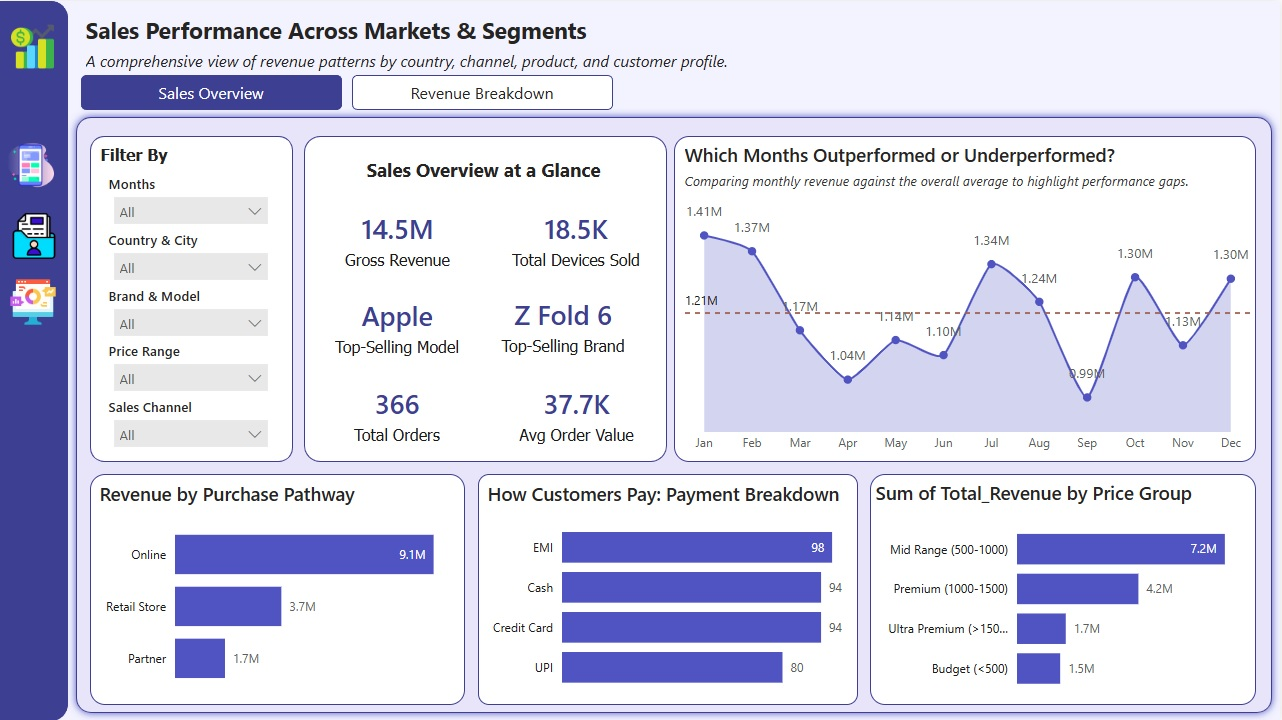

This screenshot's page, from the dashboard's own definition file:
{"tool":"powerbi","page":{"name":"Revenue","canvas":[1280,720],"ordinal":2},"visuals":[{"type":"shape","box":[67.5,107.5,1212.5,612.5],"z":0},{"type":"shape","box":[0,0,67.9,719.8],"z":1000},{"type":"textbox","title":" Sales Performance Across Markets & Segments","box":[81.2,13.8,691.2,63.8],"z":2000},{"type":"map","title":"Global Revenue Distribution by Country","fields":{"Size":["Sum(Sales.Total_Revenue)"],"Category":["Location.Country","Location.City"]},"box":[305.6,135.6,481.1,326],"z":4000},{"type":"shape","box":[90,135,202.5,326.2],"z":7000,"group":"g1"},{"type":"tableEx","title":"Best Performing Cities by Revenue & Volume","fields":{"Values":["Location.Country","Sales.City","Sales.Average_price","Sum(Sales.Units_Sold)","Sum(Sales.Total_Revenue)"]},"box":[800,135.6,458.9,174.4],"z":9000},{"type":"tableEx","title":"Model-Level Performance Overview","fields":{"Values":["Sales.Brand","Sales.Mobile_Model","Avg(Sales.Price_per_item)","Sum(Sales.Units_Sold)","Sum(Sales.Total_Revenue)"]},"box":[413.8,473.3,460,223.3],"z":10000},{"type":"clusteredBarChart","title":"Revenue Distribution by Gender","fields":{"Category":["Sales.Customer_Gender"],"Y":["Sum(Sales.Total_Revenue)"]},"box":[800,318.9,458.9,143.3],"z":11000},{"type":"clusteredBarChart","title":"Brand-Level Revenue Comparison","fields":{"Category":["Sales.Brand"],"Y":["Sum(Sales.Total_Revenue)"]},"box":[90,473.8,316.2,221.2],"z":12000},{"type":"clusteredBarChart","title":"Age Demographics Driving Sales","fields":{"Category":["Sales.Customer_Age_Group"],"Y":["Sum(Sales.Total_Revenue)"]},"box":[881.2,473.3,377.5,221.2],"z":13000},{"type":"bookmarkNavigator","box":[81.1,74,532.2,35],"z":14000},{"type":"image","box":[0,136,61,57],"z":15000},{"type":"slicer","title":"Months","fields":{"Values":["Sales.Monthname"]},"box":[104.4,174.4,173.3,55.6],"z":16000,"group":"g1"},{"type":"image","box":[4,206.7,61,56],"z":16000},{"type":"image","box":[2.2,14,61,63.3],"z":17000},{"type":"slicer","title":"Country & City","fields":{"Values":["Location.Country","Sales.City"]},"box":[104.4,230,173.3,55.6],"z":17000,"group":"g1"},{"type":"group","id":"g1","title":"Group 2","box":[90,135,202.5,326.2],"z":18000},{"type":"slicer","title":"Brand & Model","fields":{"Values":["Sales.Brand","Sales.Mobile_Model"]},"box":[104.4,285.6,173.3,55.6],"z":18000,"group":"g1"},{"type":"image","box":[2.5,271,61.2,60],"z":18001},{"type":"slicer","title":"Price Range","fields":{"Values":["Sales.Price Group"]},"box":[104.4,341.1,173.3,55.6],"z":19000,"group":"g1"},{"type":"slicer","title":"Sales Channel","fields":{"Values":["Sales.Sales_Channel"]},"box":[104.4,396.7,173.3,55.6],"z":20000,"group":"g1"},{"type":"textbox","box":[100,143.3,115.6,25.6],"z":21000,"group":"g1"}]}

Visuals, with their boxes on the page's 1280x720 design canvas (x1, y1, x2, y2). These are canvas units, not pixel positions in the 1282x720 screenshot, which may show the page scaled, cropped or inside an application window:
shape: (x1=68, y1=108, x2=1280, y2=720)
shape: (x1=0, y1=0, x2=68, y2=720)
" Sales Performance Across Markets & Segments" textbox: (x1=81, y1=14, x2=772, y2=78)
"Global Revenue Distribution by Country" map: (x1=306, y1=136, x2=787, y2=462)
shape: (x1=90, y1=135, x2=292, y2=461)
"Best Performing Cities by Revenue & Volume" tableEx: (x1=800, y1=136, x2=1259, y2=310)
"Model-Level Performance Overview" tableEx: (x1=414, y1=473, x2=874, y2=697)
"Revenue Distribution by Gender" clusteredBarChart: (x1=800, y1=319, x2=1259, y2=462)
"Brand-Level Revenue Comparison" clusteredBarChart: (x1=90, y1=474, x2=406, y2=695)
"Age Demographics Driving Sales" clusteredBarChart: (x1=881, y1=473, x2=1259, y2=694)
bookmarkNavigator: (x1=81, y1=74, x2=613, y2=109)
image: (x1=0, y1=136, x2=61, y2=193)
"Months" slicer: (x1=104, y1=174, x2=278, y2=230)
image: (x1=4, y1=207, x2=65, y2=263)
image: (x1=2, y1=14, x2=63, y2=77)
"Country & City" slicer: (x1=104, y1=230, x2=278, y2=286)
"Group 2" group: (x1=90, y1=135, x2=292, y2=461)
"Brand & Model" slicer: (x1=104, y1=286, x2=278, y2=341)
image: (x1=2, y1=271, x2=64, y2=331)
"Price Range" slicer: (x1=104, y1=341, x2=278, y2=397)
"Sales Channel" slicer: (x1=104, y1=397, x2=278, y2=452)
textbox: (x1=100, y1=143, x2=216, y2=169)
